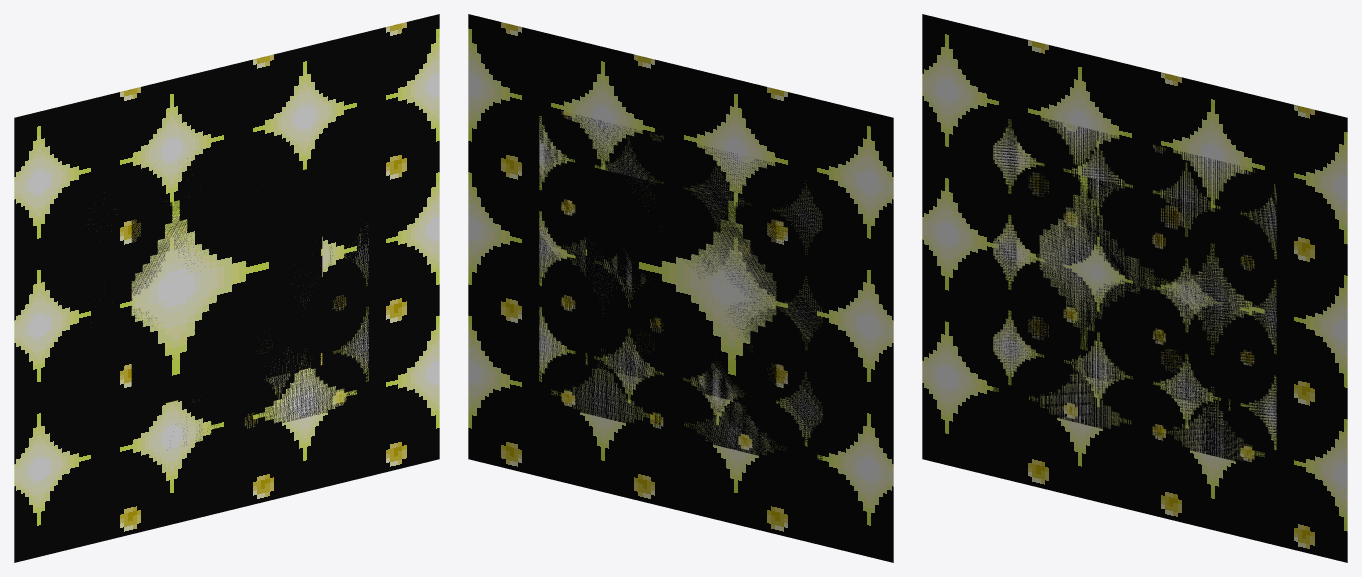
The picture shows the model from 3 angles, left to right: view 1: azimuth 30°, elevation 25°; view 2: azimuth 150°, elevation 25°; view 3: azimuth 330°, elevation 25°; orthographic projection.
Visible parts, largest first — view 1: ef_064; view 2: ef_064; view 3: ef_064.
Boxes of the visible parts, left/top/right/bottom form: ef_064: left=14, top=14, right=439, bottom=562; ef_064: left=468, top=14, right=893, bottom=562; ef_064: left=922, top=14, right=1347, bottom=562.
Size of the model in its own units: 0.6001 by 0.6001 by 0.
Materials: 1 (1 with a texture image).
